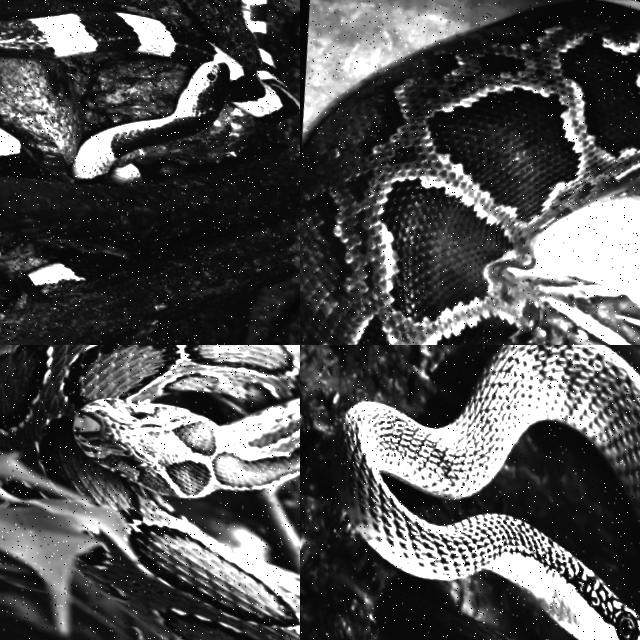Bungarus candidus: (0, 0, 299, 183)
Chrysopelea ornata: (333, 345, 639, 639)
Daboia siamensis: (0, 345, 299, 639)
Python bivittatus: (300, 2, 639, 344)
